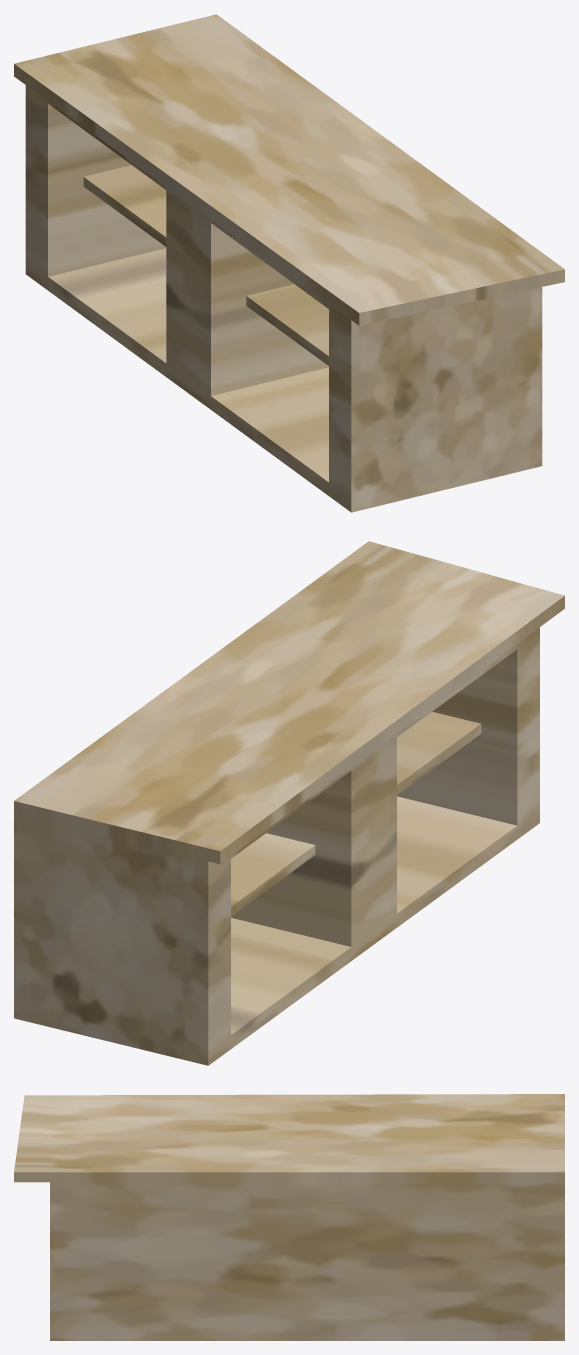
File: kitchen_rack.fbx
3 renders of one model, top to bottom at view 1: azimuth 30°, elevation 25°; view 2: azimuth 150°, elevation 25°; view 3: azimuth 270°, elevation 25°, orthographic. The views are drawn at different scales.
Visible parts, largest first — view 1: Cube.065; view 2: Cube.065; view 3: Cube.065.
Part boxes in pixels (x1,y1,x2,y2): Cube.065: [14, 14, 564, 512]; Cube.065: [14, 541, 564, 1065]; Cube.065: [14, 1094, 564, 1340].
Size of the model in its own units: 194 by 195 by 578.
